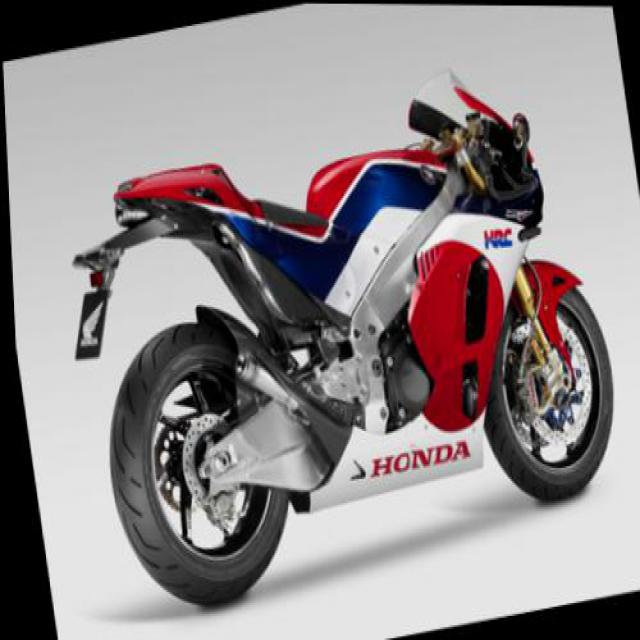HRC RCV 213: (35, 35, 633, 633)
